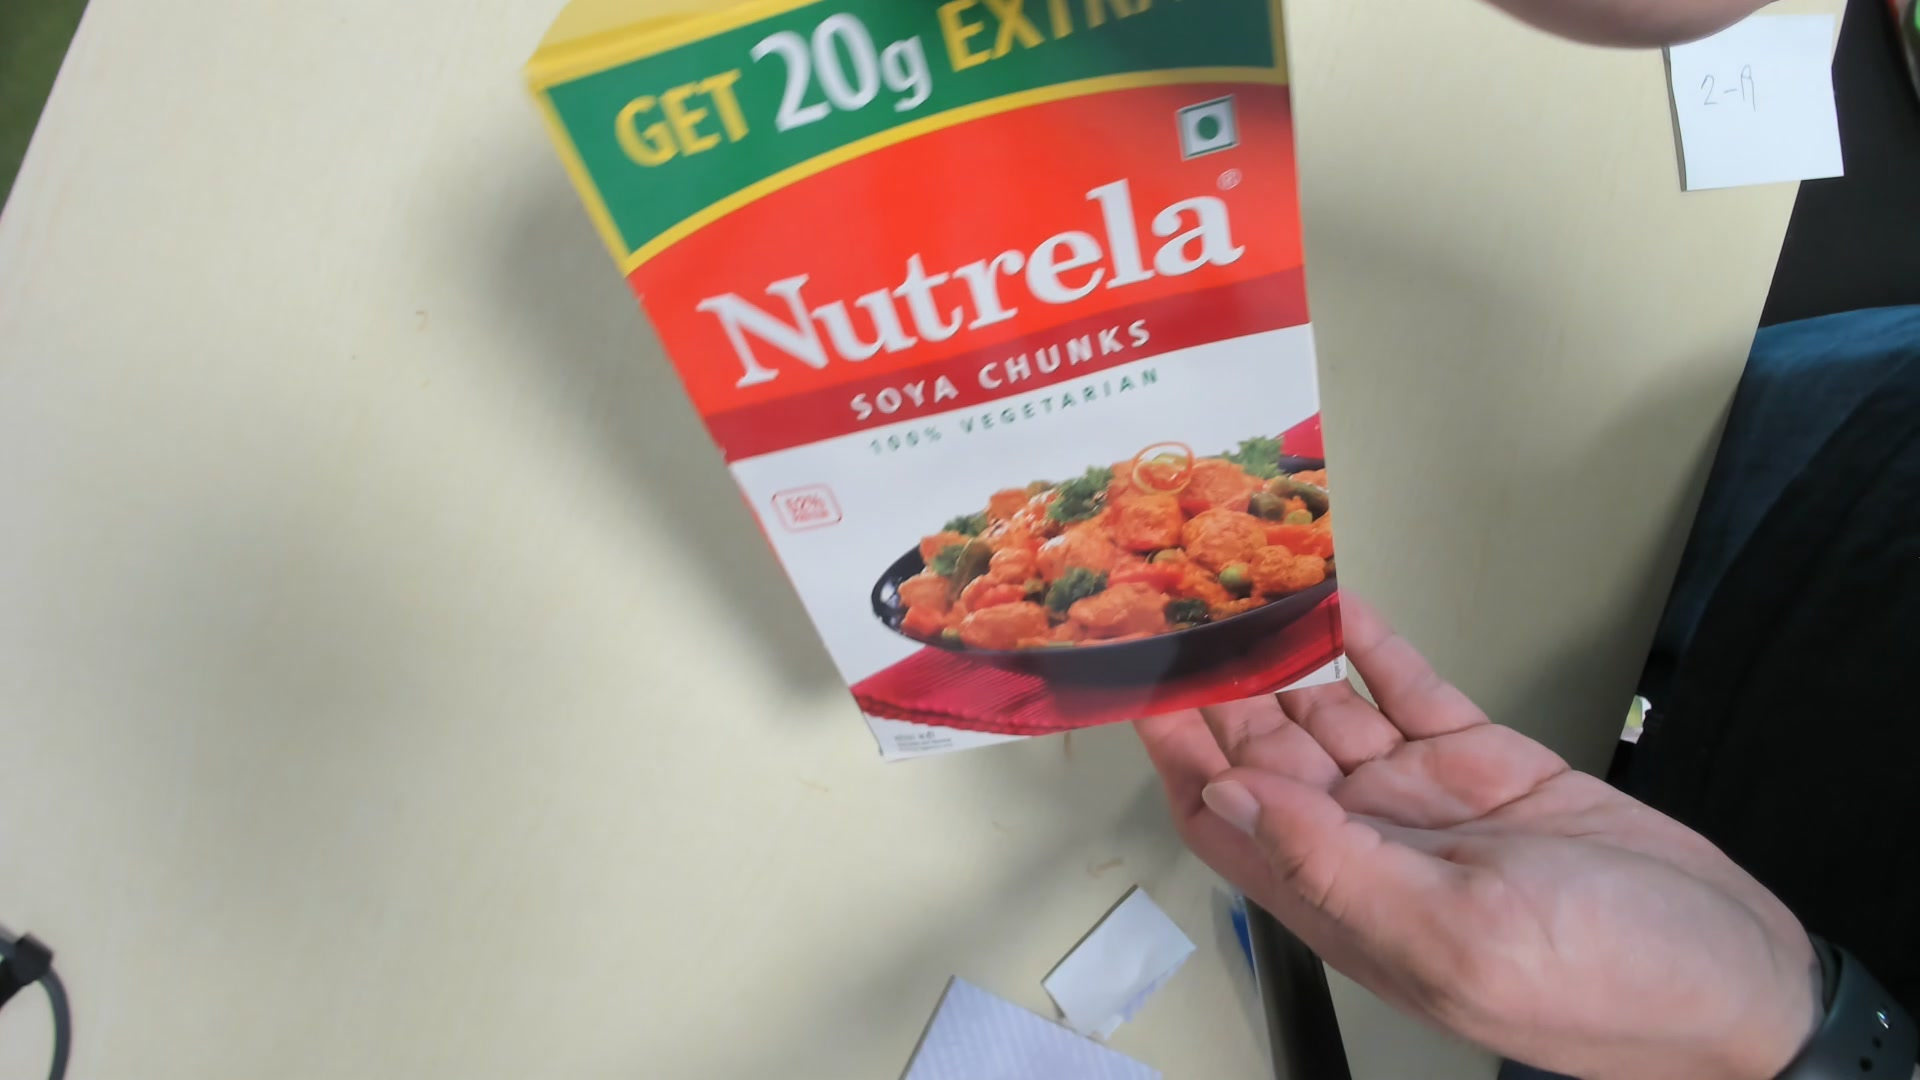InstantMeals_200_299g_NonHalal_NonHealthy: (529, 7, 1353, 773)
